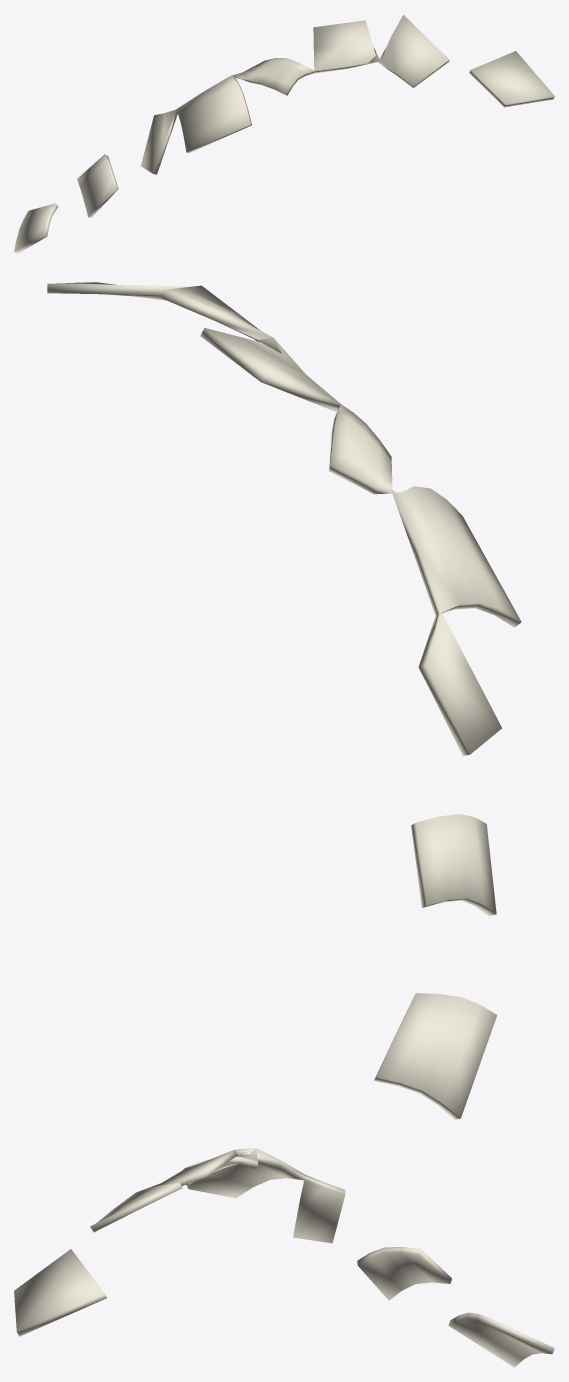
The picture shows the model from 3 angles, top to bottom: view 1: azimuth 30°, elevation 25°; view 2: azimuth 150°, elevation 25°; view 3: azimuth 270°, elevation 25°; orthographic projection. The views are drawn at different scales.
Parts seen in each view (by area): view 1: ZA_c8a74ae2a83b78de; view 2: ZA_c8a74ae2a83b78de; view 3: ZA_c8a74ae2a83b78de.
Boxes of the visible parts, x1,y1,x2,y2 form: ZA_c8a74ae2a83b78de: [14, 15, 554, 253]; ZA_c8a74ae2a83b78de: [47, 282, 521, 1119]; ZA_c8a74ae2a83b78de: [14, 1148, 554, 1367].
Size of the model in its own units: 0.0441 by 0.0306 by 0.041.
